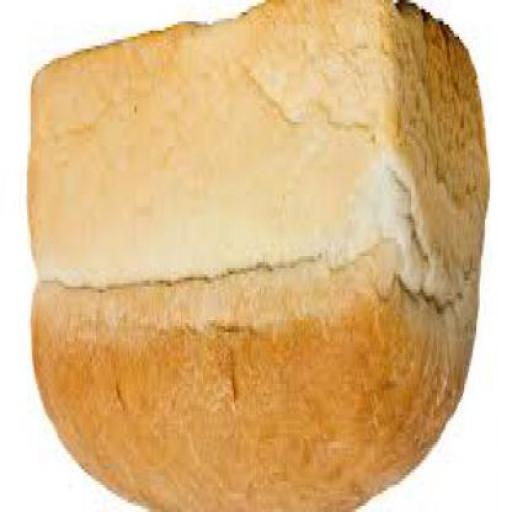biodegradable: (24, 2, 488, 511)
